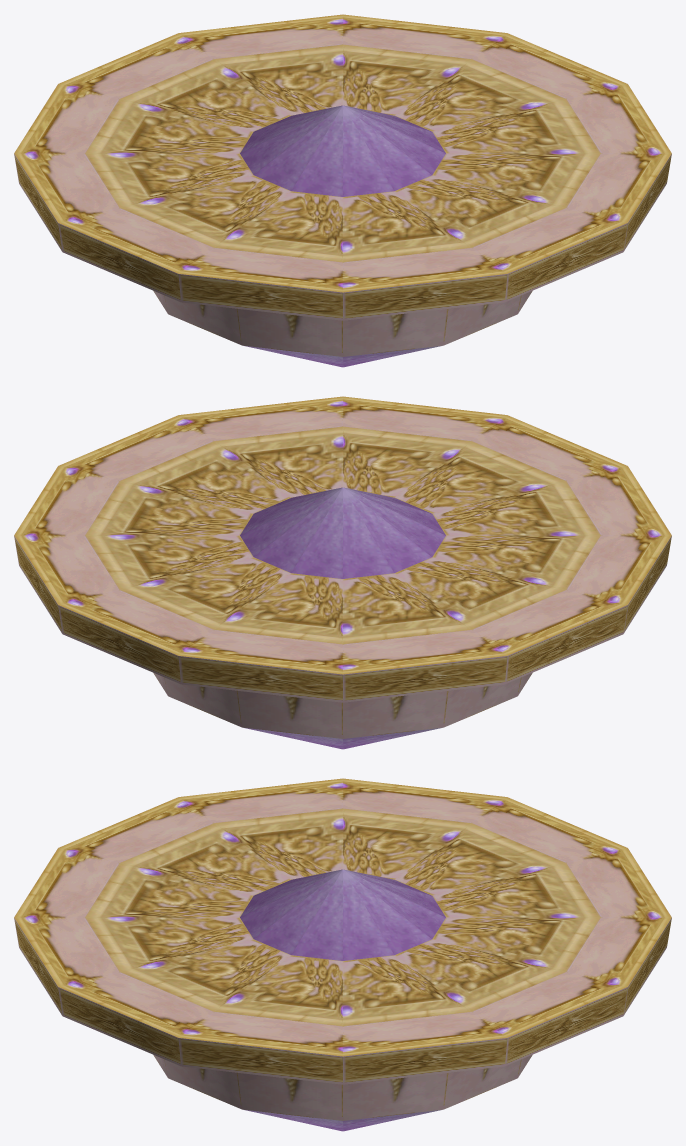
Rendered from lift.glb.
3 renders of one model, top to bottom at view 1: azimuth 30°, elevation 25°; view 2: azimuth 150°, elevation 25°; view 3: azimuth 270°, elevation 25°, orthographic.
Parts seen in each view (by area): view 1: Cylinder; view 2: Cylinder; view 3: Cylinder.
Part boxes in pixels (x1,y1,x2,y2): Cylinder: (14,14,671,367); Cylinder: (14,396,671,749); Cylinder: (14,778,671,1131).
Bounding box in the file's own units: 2 × 0.879 × 2.
Materials: 1 (1 with a texture image).
